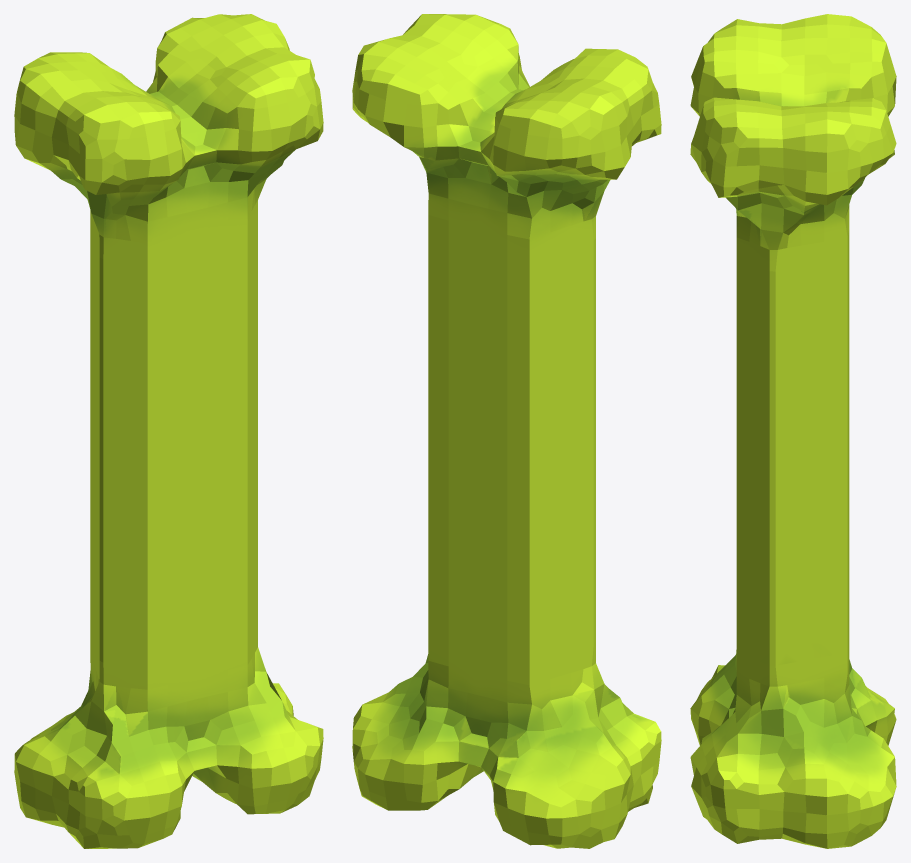
The model's file is bone.gltf.
The picture shows the model from 3 angles, left to right: view 1: azimuth 30°, elevation 25°; view 2: azimuth 150°, elevation 25°; view 3: azimuth 270°, elevation 25°; orthographic projection. The views are drawn at different scales.
Visible parts, largest first — view 1: Cube; view 2: Cube; view 3: Cube.
Part boxes in pixels (x1=…): Cube: x1=14, y1=14, x2=323, y2=848; Cube: x1=352, y1=14, x2=661, y2=848; Cube: x1=690, y1=14, x2=896, y2=848.
Size of the model in its own units: 0.7561 by 1.99 by 0.5098.
Materials: 1 (1 with a texture image).
